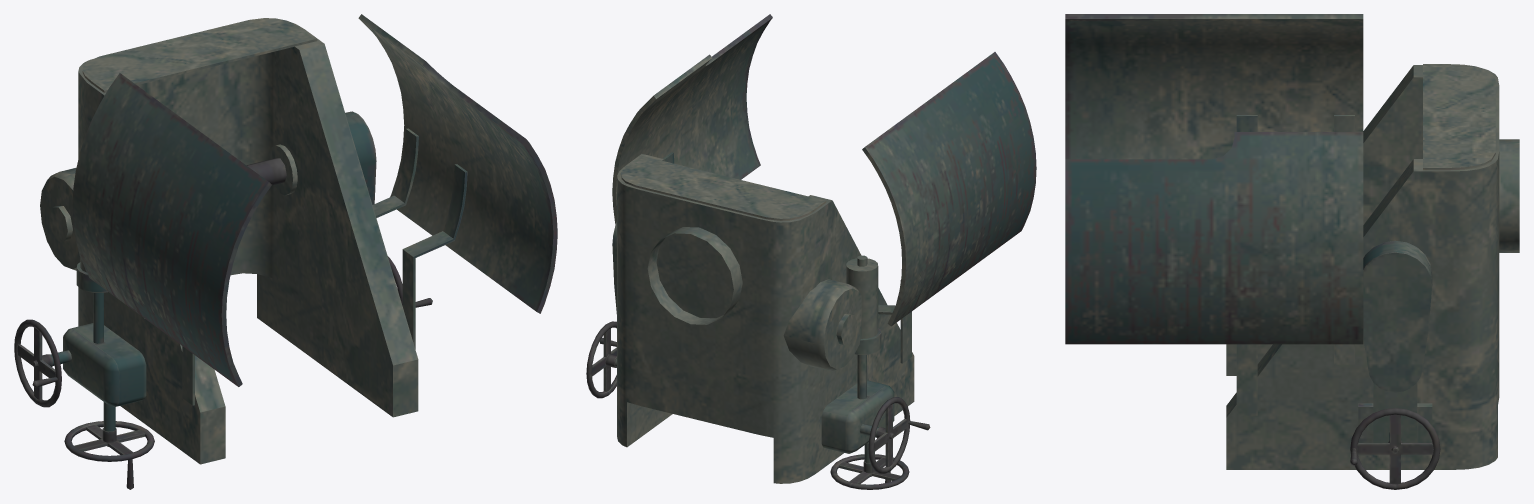
File: Turret_01.glb
The picture shows the model from 3 angles, left to right: view 1: azimuth 30°, elevation 25°; view 2: azimuth 150°, elevation 25°; view 3: azimuth 270°, elevation 25°; orthographic projection. The views are drawn at different scales.
Visible parts, largest first — view 1: set_0_group_0; view 2: set_0_group_0; view 3: set_0_group_0.
Part boxes in pixels (x1,y1,x2,y2): set_0_group_0: (14,14,557,489); set_0_group_0: (586,14,1036,489); set_0_group_0: (1065,14,1519,489).
Size of the model in its own units: 1.5 by 1.48 by 1.52.
Materials: 1 (1 with a texture image).
